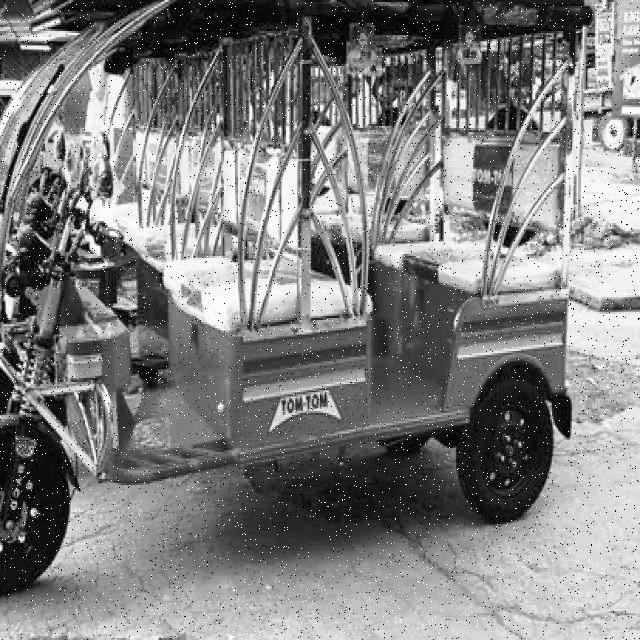Toto: (0, 0, 589, 596)
